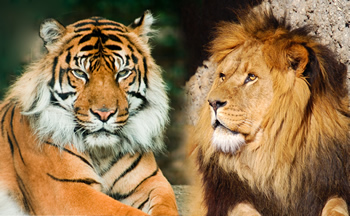lion: (185, 7, 347, 216)
tiger: (1, 7, 176, 216)
